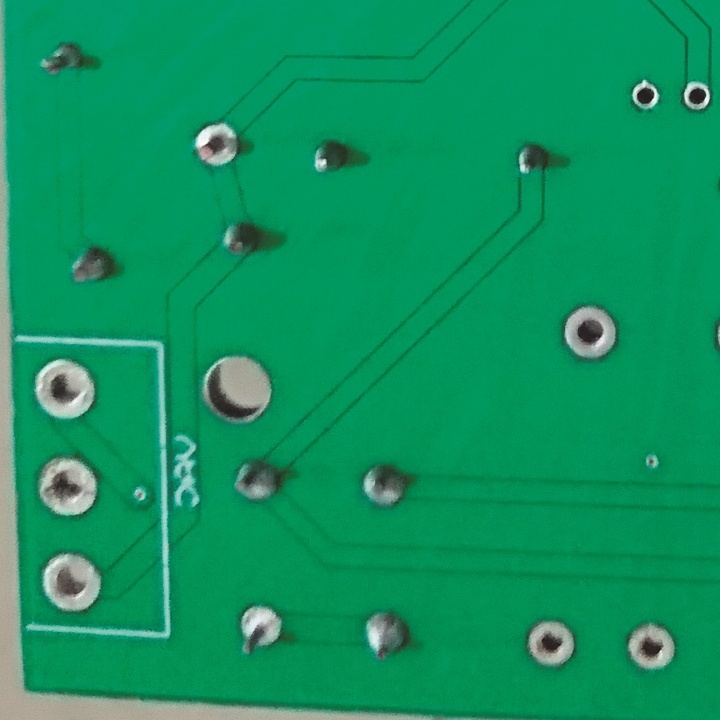F: (30, 360, 100, 428), (558, 304, 625, 375), (41, 550, 108, 618), (619, 616, 681, 680), (36, 453, 97, 517), (233, 603, 299, 661), (188, 119, 247, 173), (521, 616, 578, 670), (627, 75, 663, 115), (679, 79, 715, 113)
